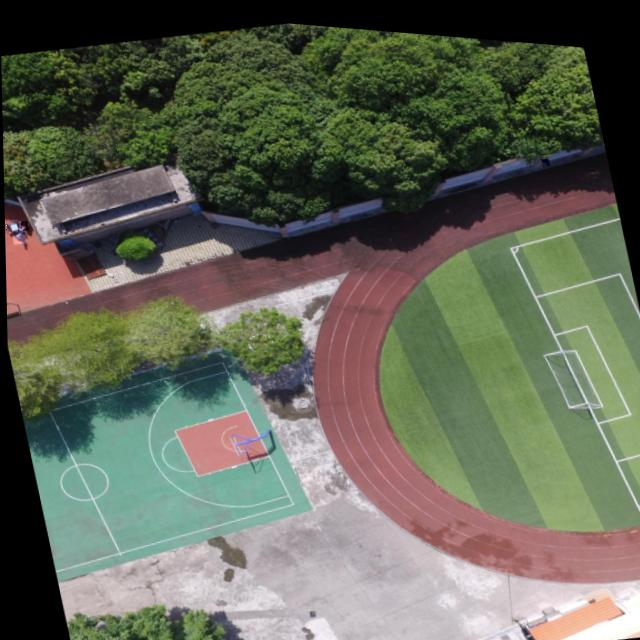Person: (11, 233, 26, 246), (14, 220, 27, 231), (540, 149, 548, 158), (4, 223, 10, 234)
